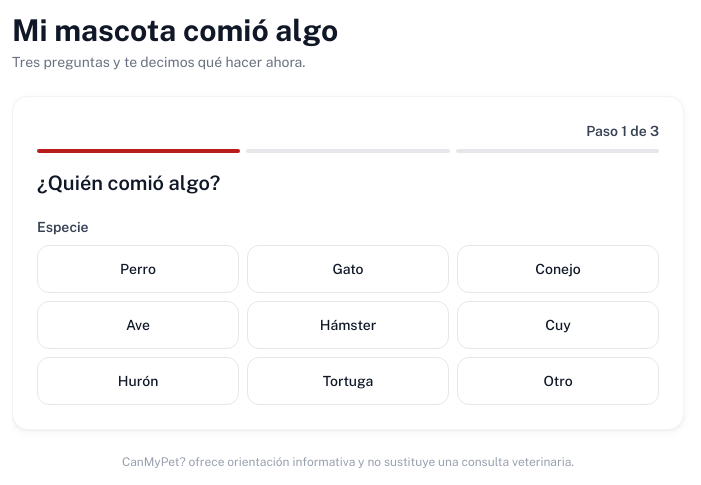
Test: EmergencyFlowPage › asks for the species when the animal is not one of the pets
The width and height of the screenshot is (701, 485).
Click the button "Gato". click: (348, 269)
box: [247,245,449,293]
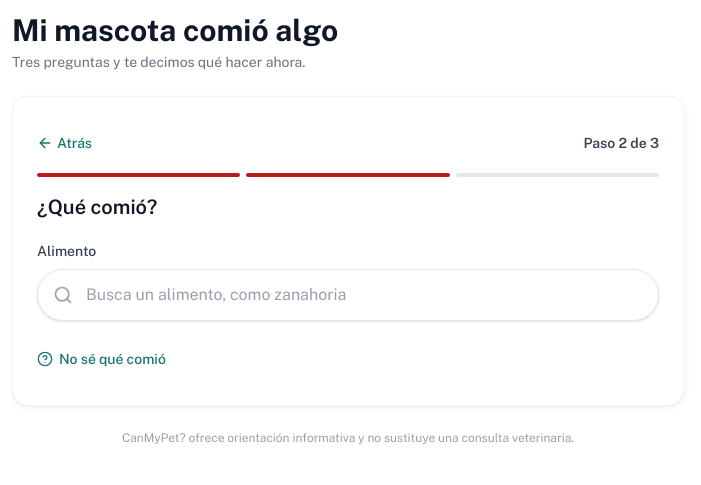
Expected: the heading "¿Qué comió?" is shown, [37,195,157,219]
